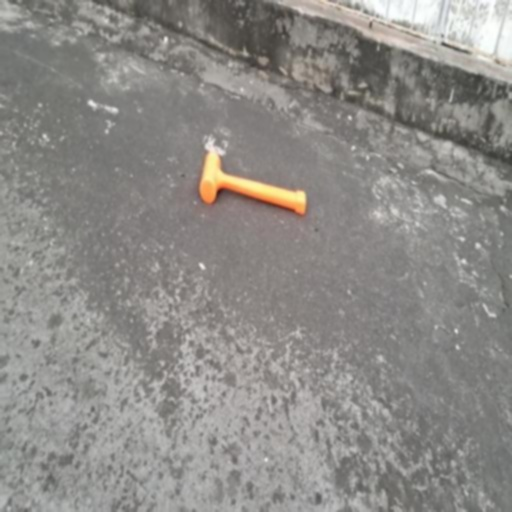mallet: (200, 152, 306, 214)
